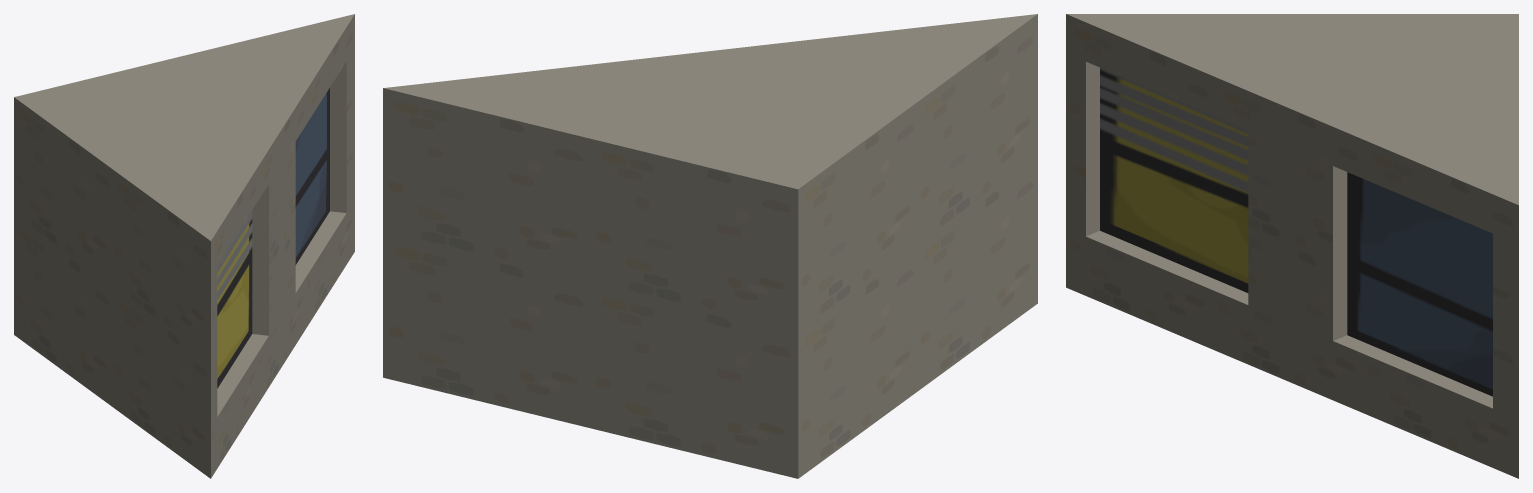
The model's file is Block_A03.fbx.
3 views of the same model, side by side, from view 1: azimuth 30°, elevation 25°; view 2: azimuth 150°, elevation 25°; view 3: azimuth 270°, elevation 25° (orthographic). The views are drawn at different scales.
Visible parts, largest first — view 1: Block_A03; view 2: Block_A03; view 3: Block_A03.
Boxes of the visible parts, x1,y1,x2,y2 form: Block_A03: (14, 14, 354, 478); Block_A03: (383, 14, 1037, 478); Block_A03: (1066, 14, 1518, 478).
Size of the model in its own units: 600 by 400 by 600.
Materials: 1 (1 with a texture image).
